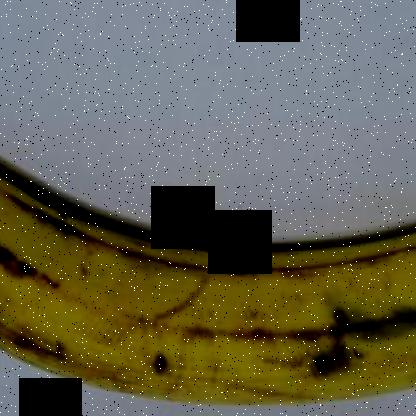ripe: (0, 139, 415, 416)
